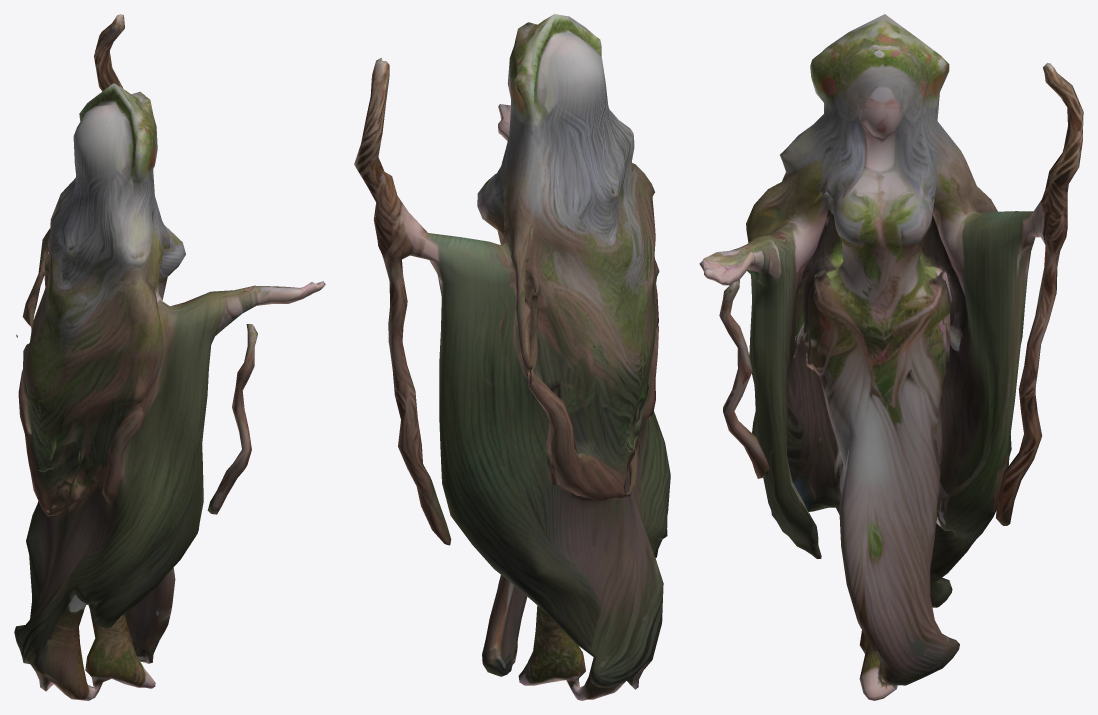
The model's file is Gaia2.glb.
3 views of the same model, side by side, from view 1: azimuth 30°, elevation 25°; view 2: azimuth 150°, elevation 25°; view 3: azimuth 270°, elevation 25° (orthographic). The views are drawn at different scales.
Parts seen in each view (by area): view 1: tripo_node_b4e27d9e-46c6-4b98-8415-f57bbdf4019a; view 2: tripo_node_b4e27d9e-46c6-4b98-8415-f57bbdf4019a; view 3: tripo_node_b4e27d9e-46c6-4b98-8415-f57bbdf4019a.
Boxes of the visible parts, x1,y1,x2,y2 form: tripo_node_b4e27d9e-46c6-4b98-8415-f57bbdf4019a: [14, 14, 325, 700]; tripo_node_b4e27d9e-46c6-4b98-8415-f57bbdf4019a: [354, 14, 670, 700]; tripo_node_b4e27d9e-46c6-4b98-8415-f57bbdf4019a: [699, 14, 1083, 700].
Bounding box in the file's own units: 0.3546 × 0.9411 × 0.4886.
Materials: 1 (1 with a texture image).
